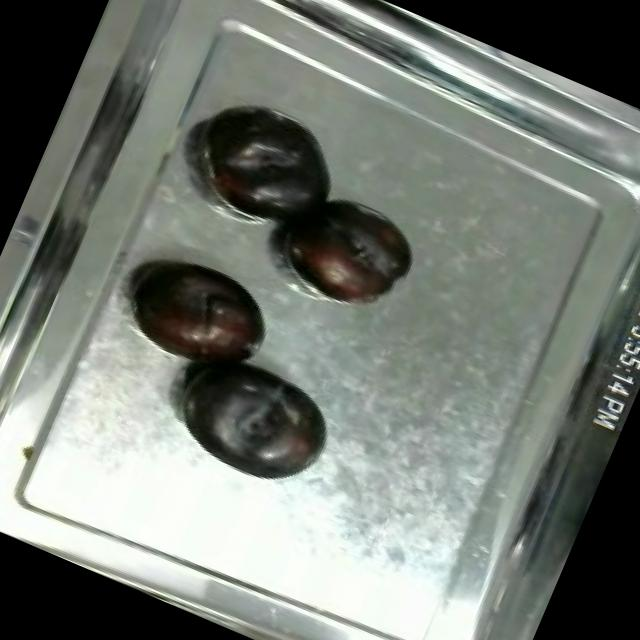Fruit: (154, 334, 352, 502), (184, 84, 360, 240), (114, 239, 286, 388), (266, 177, 431, 324)
